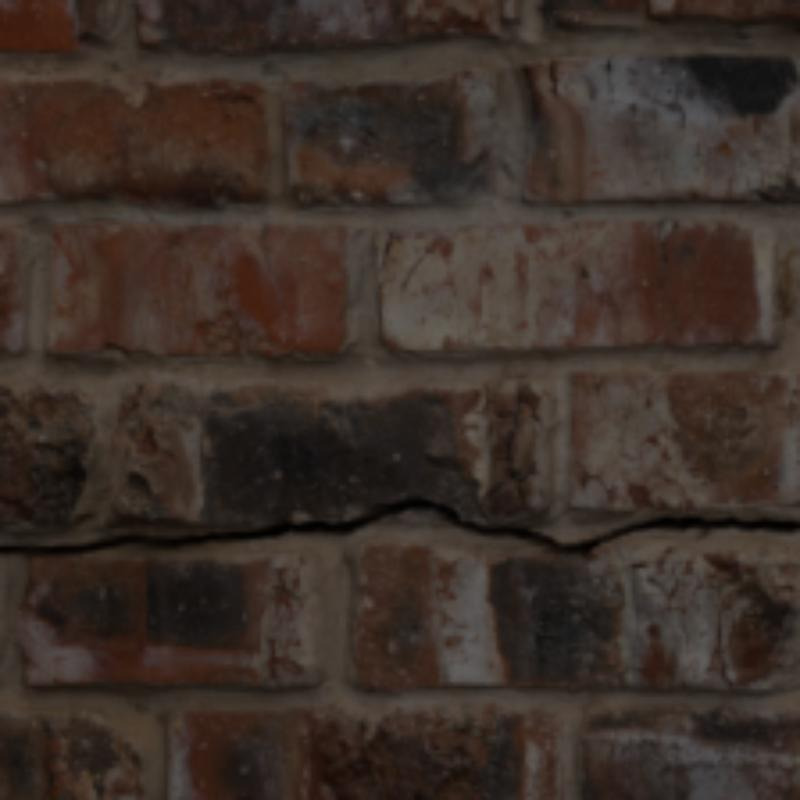pothole: (0, 496, 796, 554), (721, 664, 732, 689), (718, 643, 721, 661), (718, 621, 721, 636)
